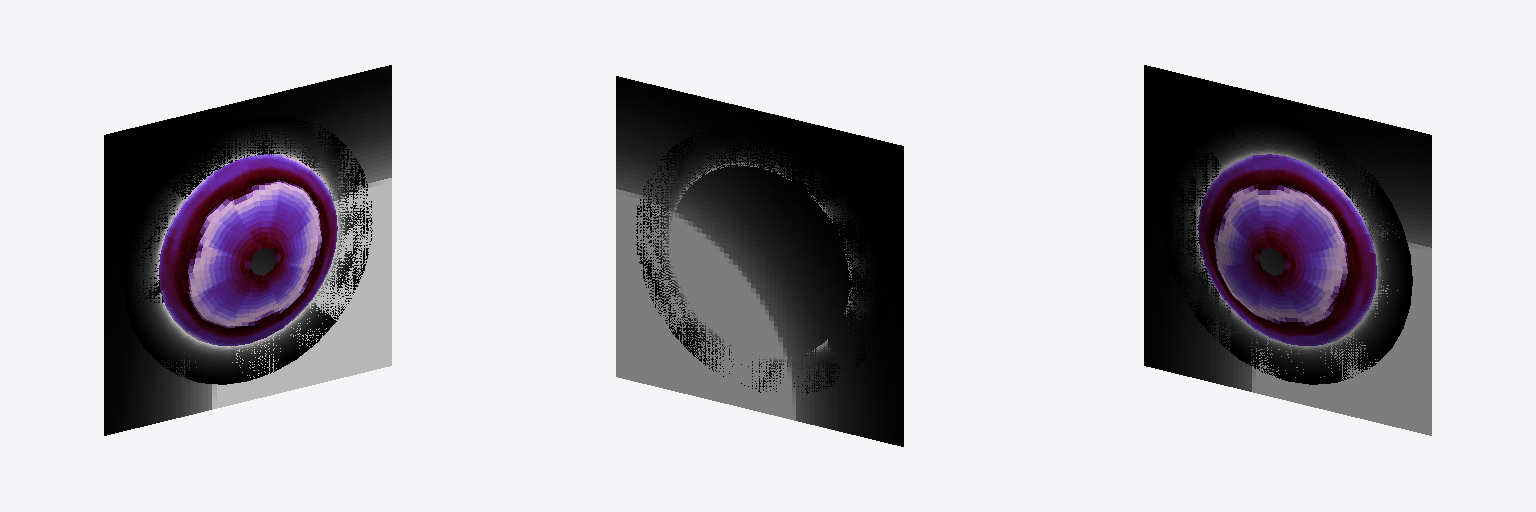
3 renders of one model, left to right at view 1: azimuth 30°, elevation 25°; view 2: azimuth 150°, elevation 25°; view 3: azimuth 330°, elevation 25°, orthographic.
Parts seen in each view (by area): view 1: polygon0, polygon3, polygon1, polygon2; view 2: polygon0, polygon1; view 3: polygon0, polygon3, polygon1, polygon2.
Boxes of the visible parts, <box> form: polygon0: <box>104,65,391,435</box>; polygon3: <box>159,154,337,345</box>; polygon1: <box>123,116,372,384</box>; polygon2: <box>250,248,276,275</box>; polygon0: <box>616,76,903,446</box>; polygon1: <box>636,128,884,394</box>; polygon0: <box>1144,65,1431,435</box>; polygon3: <box>1198,154,1376,345</box>; polygon1: <box>1163,116,1412,384</box>; polygon2: <box>1259,248,1285,275</box>.
Size of the model in its own units: 12.87 by 12.87 by 1.19.
Materials: 4 (4 with a texture image).